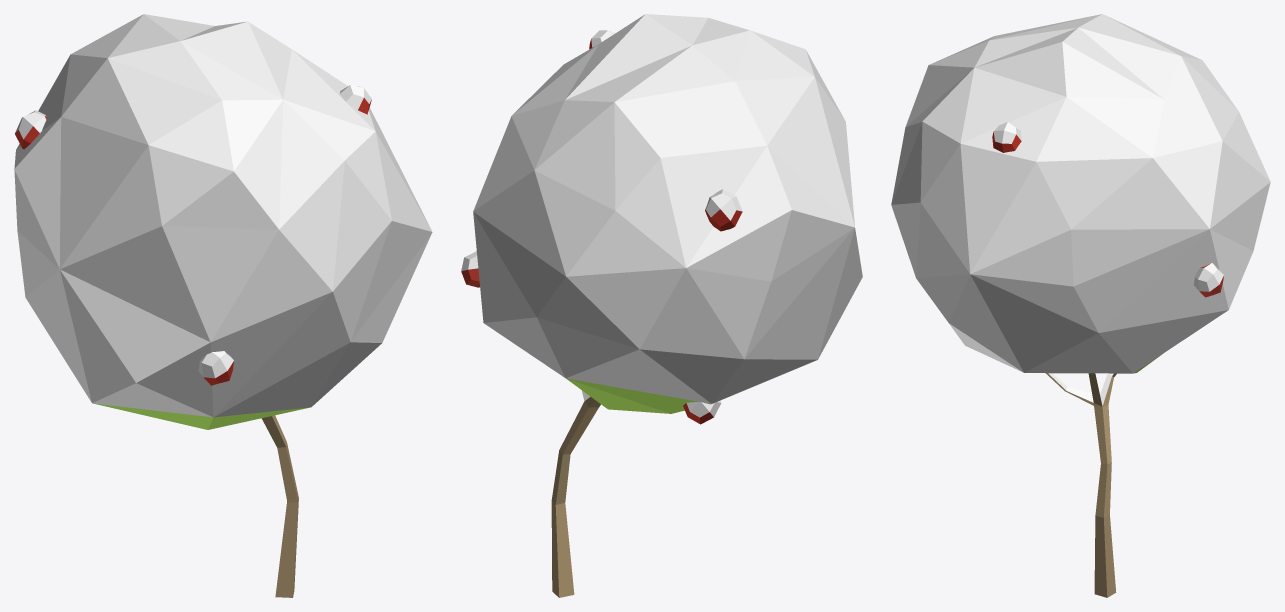
The model's file is Apple_Tree_Apples_s_Snow_BT_04.fbx.
3 renders of one model, left to right at view 1: azimuth 30°, elevation 25°; view 2: azimuth 150°, elevation 25°; view 3: azimuth 270°, elevation 25°, orthographic. The views are drawn at different scales.
Visible parts, largest first — view 1: Apple_Tree_Apples_s_Snow_BT_04; view 2: Apple_Tree_Apples_s_Snow_BT_04; view 3: Apple_Tree_Apples_s_Snow_BT_04.
Boxes of the visible parts, x1,y1,x2,y2 form: Apple_Tree_Apples_s_Snow_BT_04: (14, 14, 432, 597); Apple_Tree_Apples_s_Snow_BT_04: (461, 14, 862, 597); Apple_Tree_Apples_s_Snow_BT_04: (891, 14, 1270, 597).
Bounding box in the file's own units: 184 × 317 × 207.
